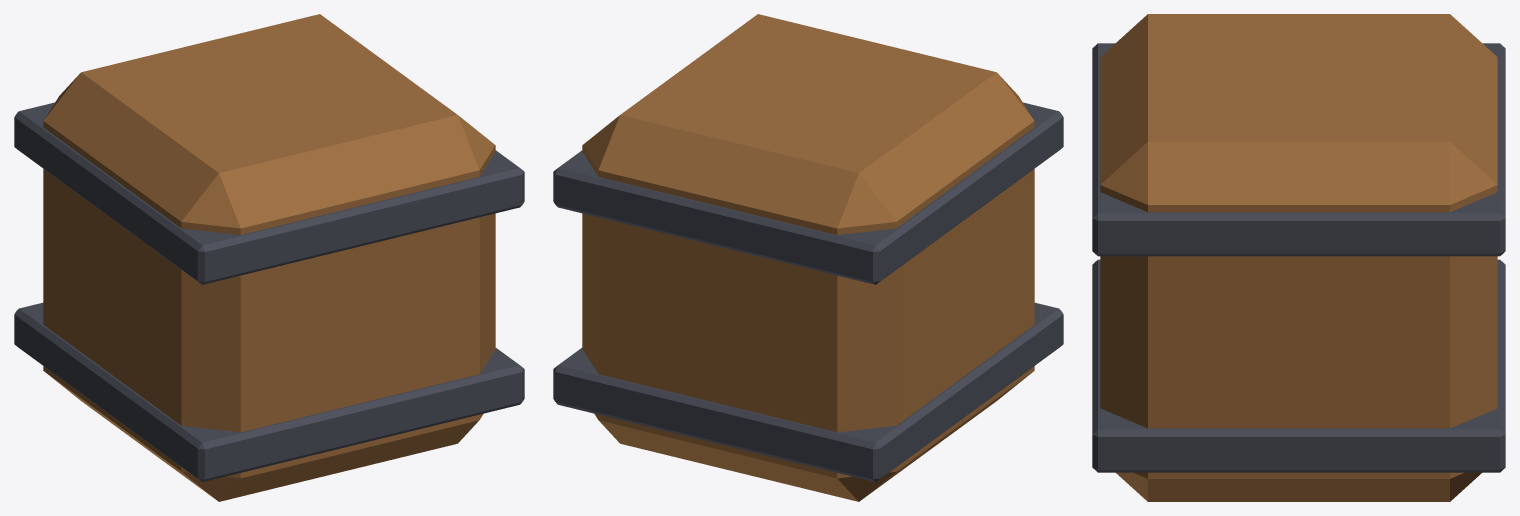
Rendered from Prop_PracticeCrate.glb.
The picture shows the model from 3 angles, left to right: view 1: azimuth 30°, elevation 25°; view 2: azimuth 150°, elevation 25°; view 3: azimuth 270°, elevation 25°; orthographic projection. The views are drawn at different scales.
Parts seen in each view (by area): view 1: Prop_PracticeCrate; view 2: Prop_PracticeCrate; view 3: Prop_PracticeCrate.
Part boxes in pixels (x1,y1,x2,y2): Prop_PracticeCrate: [14, 14, 524, 501]; Prop_PracticeCrate: [553, 14, 1063, 501]; Prop_PracticeCrate: [1092, 14, 1505, 501].
Size of what is drawn, in the model's own units: 0.52 by 0.5 by 0.52.
